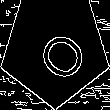O_NW: (24, 17, 86, 82)
